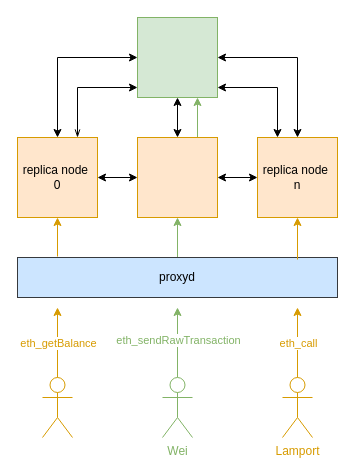
Some shapes in this 355 by 476 pixel diagram are drawn without their labels. The centre of each missing label's shape, as x and y in pixels:
"replica node 1" goes at [177,177].
"Satoshi" goes at [57,407].
"sequencer" goes at [177,57].
